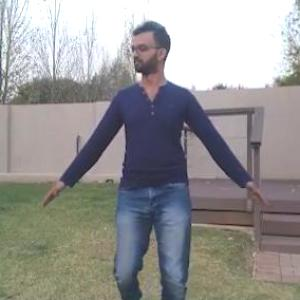land: (40, 5, 284, 299)
